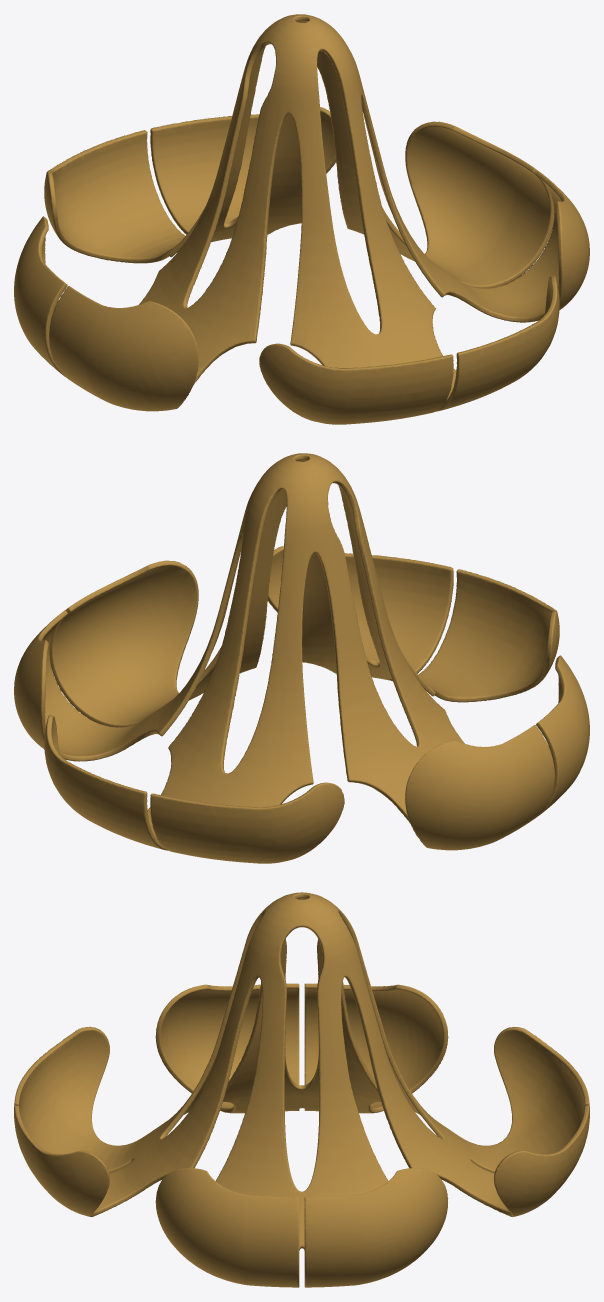
3 views of the same model, one above another, from view 1: azimuth 30°, elevation 25°; view 2: azimuth 150°, elevation 25°; view 3: azimuth 270°, elevation 25° (orthographic). The views are drawn at different scales.
Parts seen in each view (by area): view 1: 3dmodel; view 2: 3dmodel; view 3: 3dmodel.
Part boxes in pixels (x1,y1,x2,y2): 3dmodel: (14,14,589,424); 3dmodel: (14,453,589,863); 3dmodel: (14,892,589,1287).
Size of the model in its own units: 22.38 by 13.36 by 23.51.
